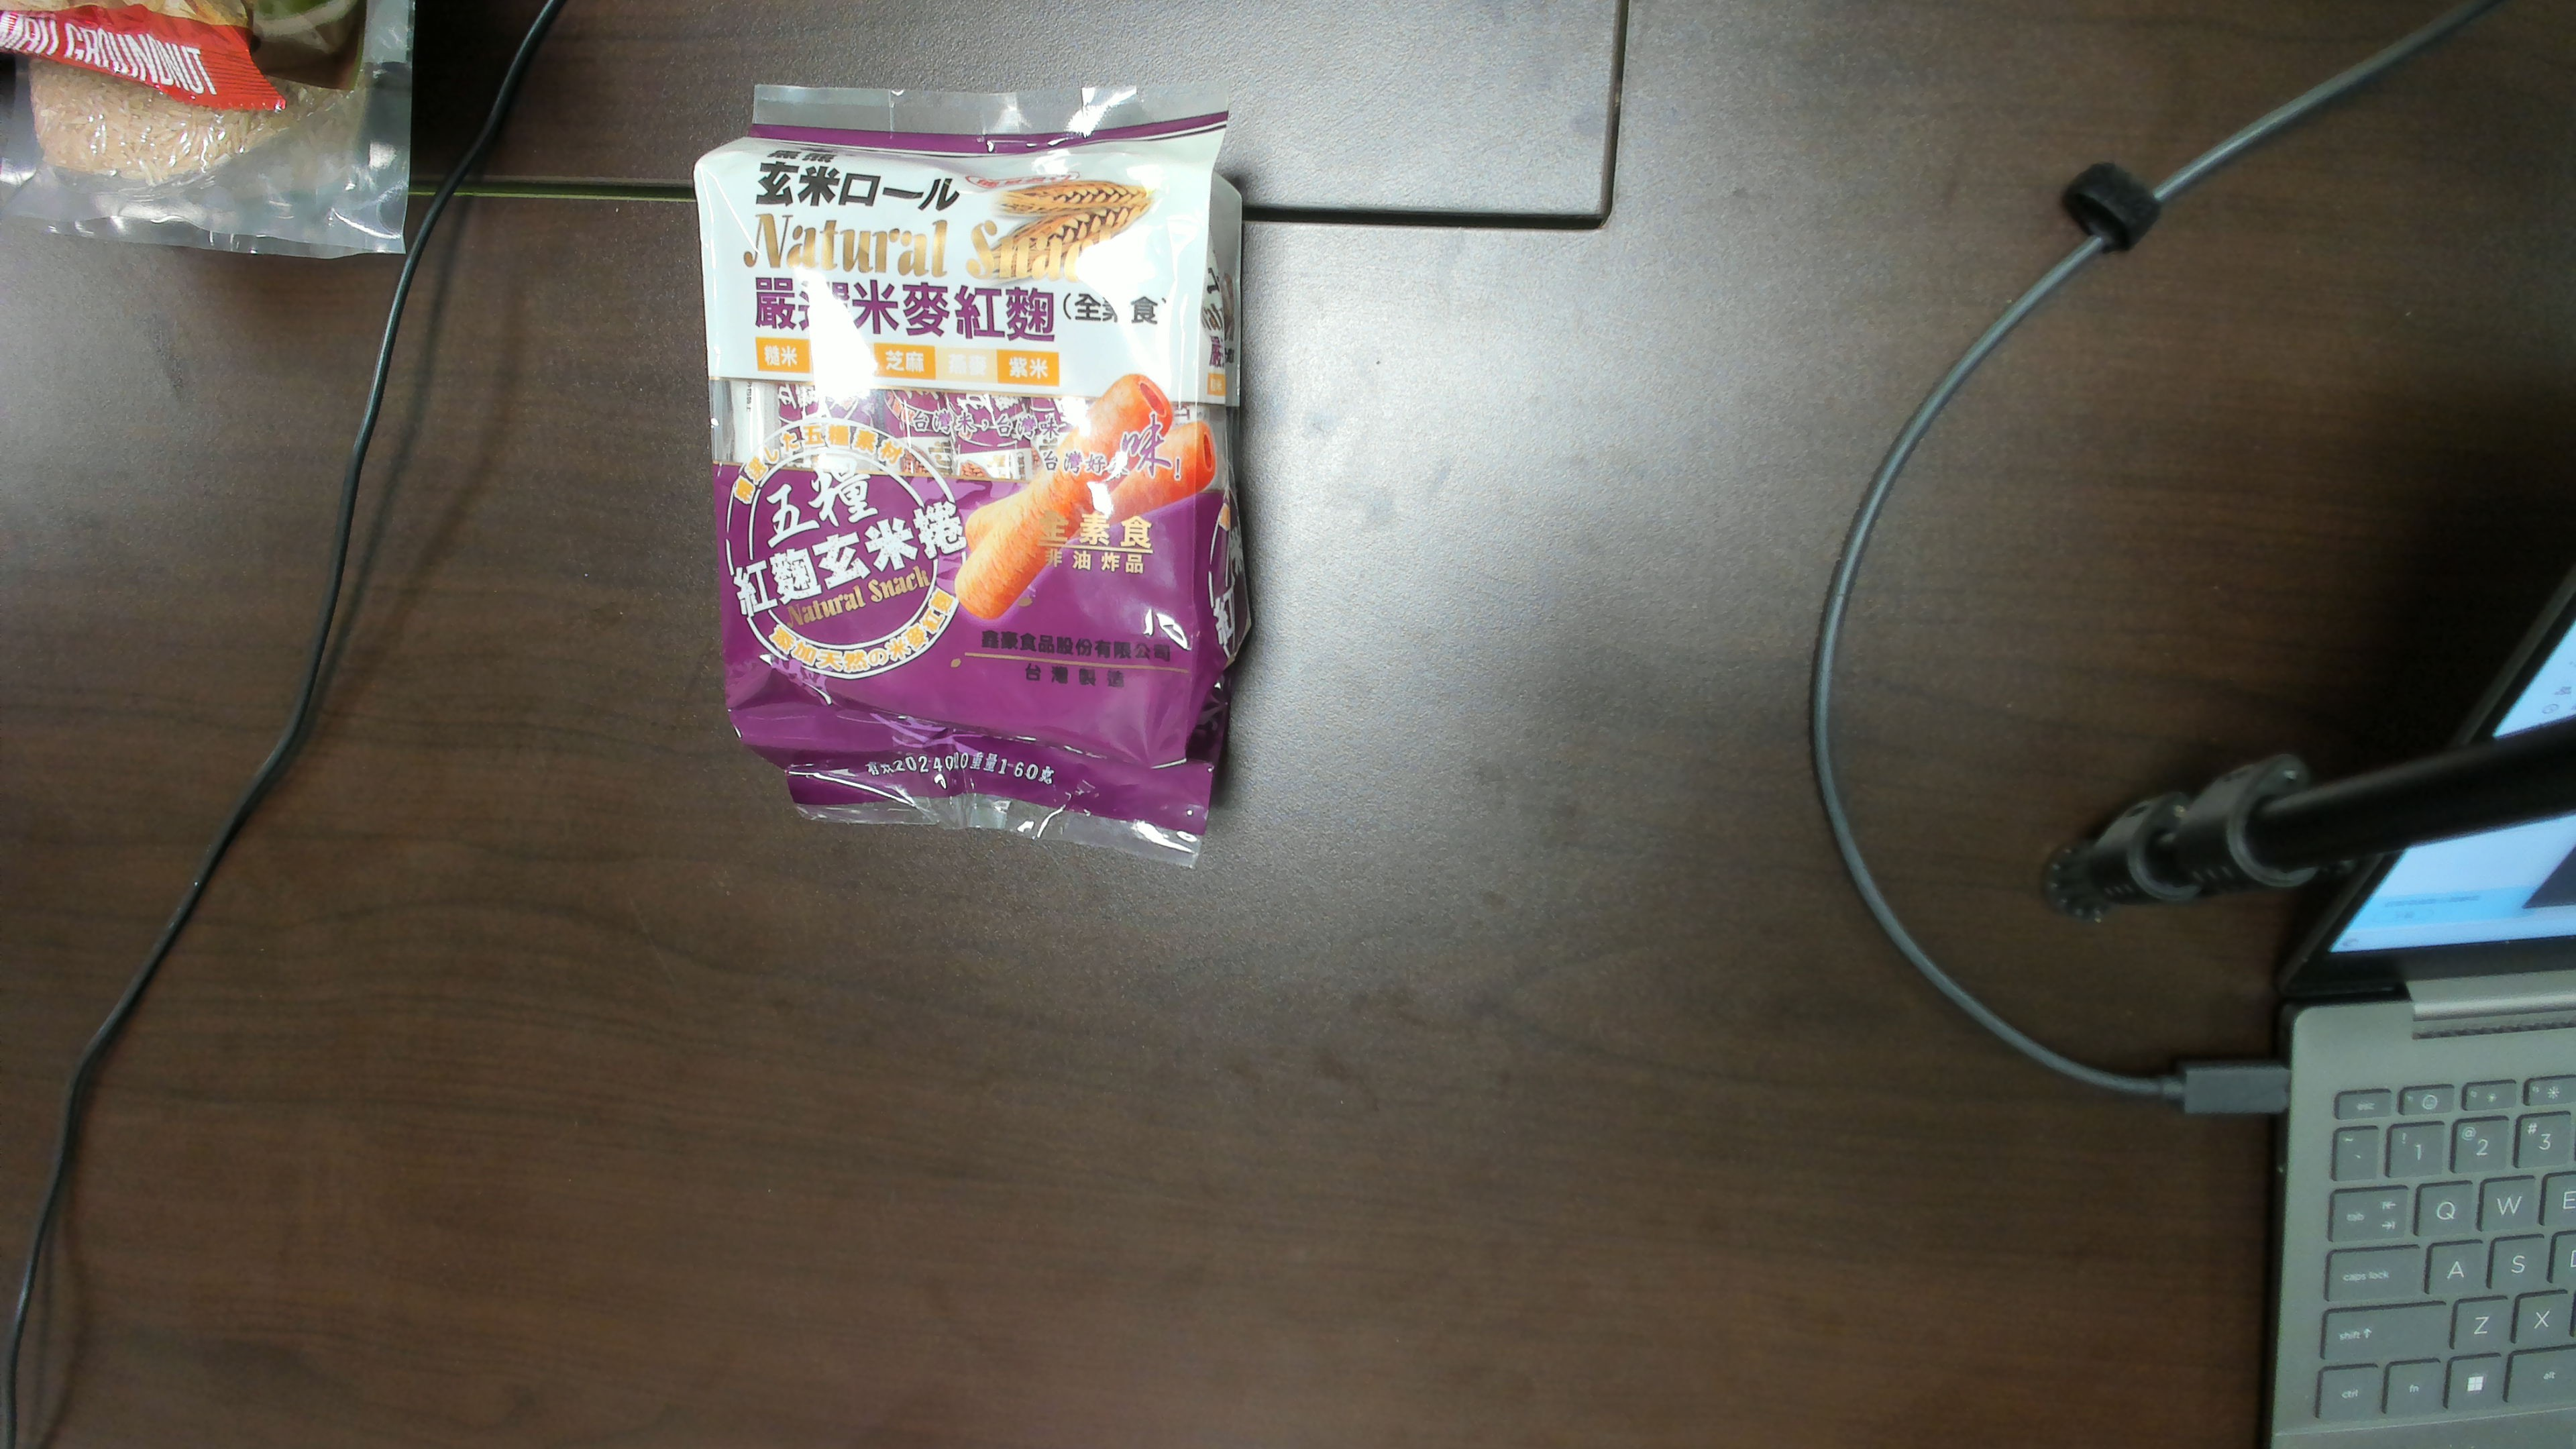BiscuitsCrackersCookies_100-199g_NonHalal_NonHealthy: (727, 166, 1182, 702)
